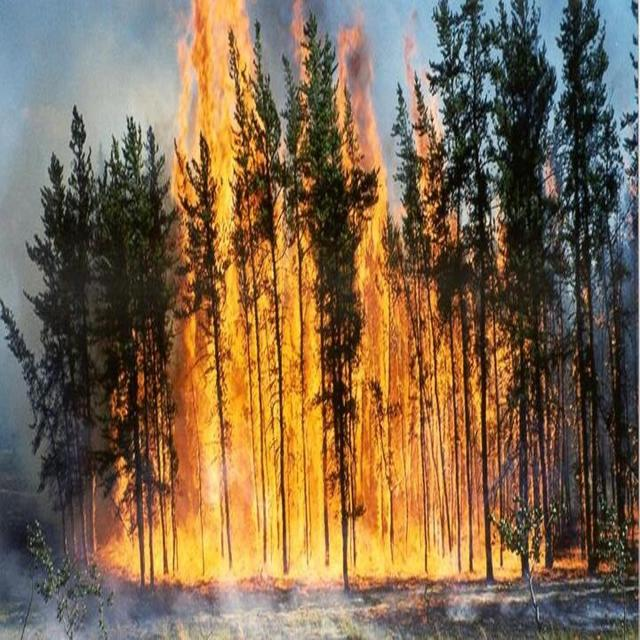fire: (227, 198, 253, 574), (181, 2, 245, 104), (364, 250, 378, 556), (208, 410, 222, 578), (174, 524, 206, 582), (356, 88, 374, 170), (110, 531, 136, 583)
